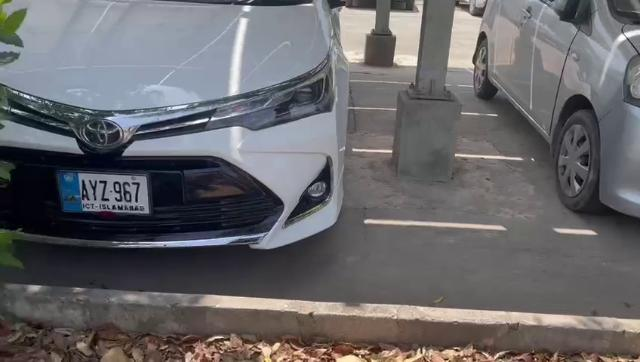plate: (56, 170, 152, 216)
